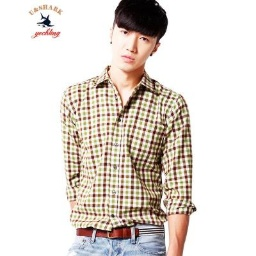face: (107, 1, 169, 73)
